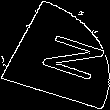N_NW: (15, 27, 95, 83)
